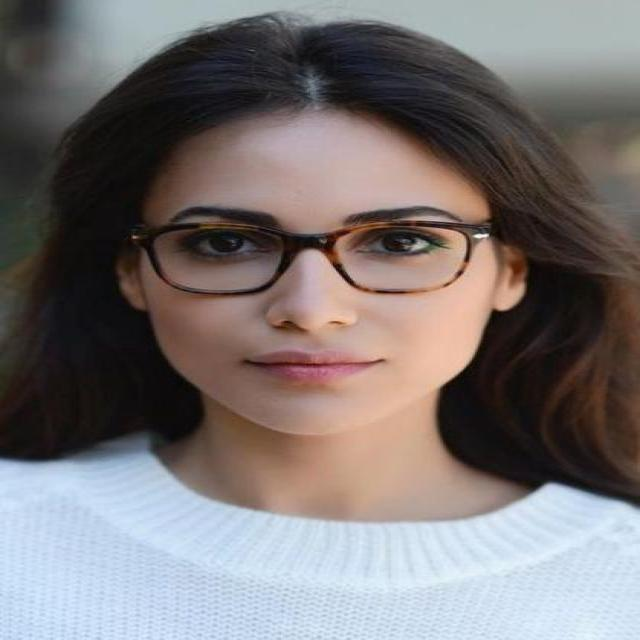glasses: (132, 221, 494, 295)
